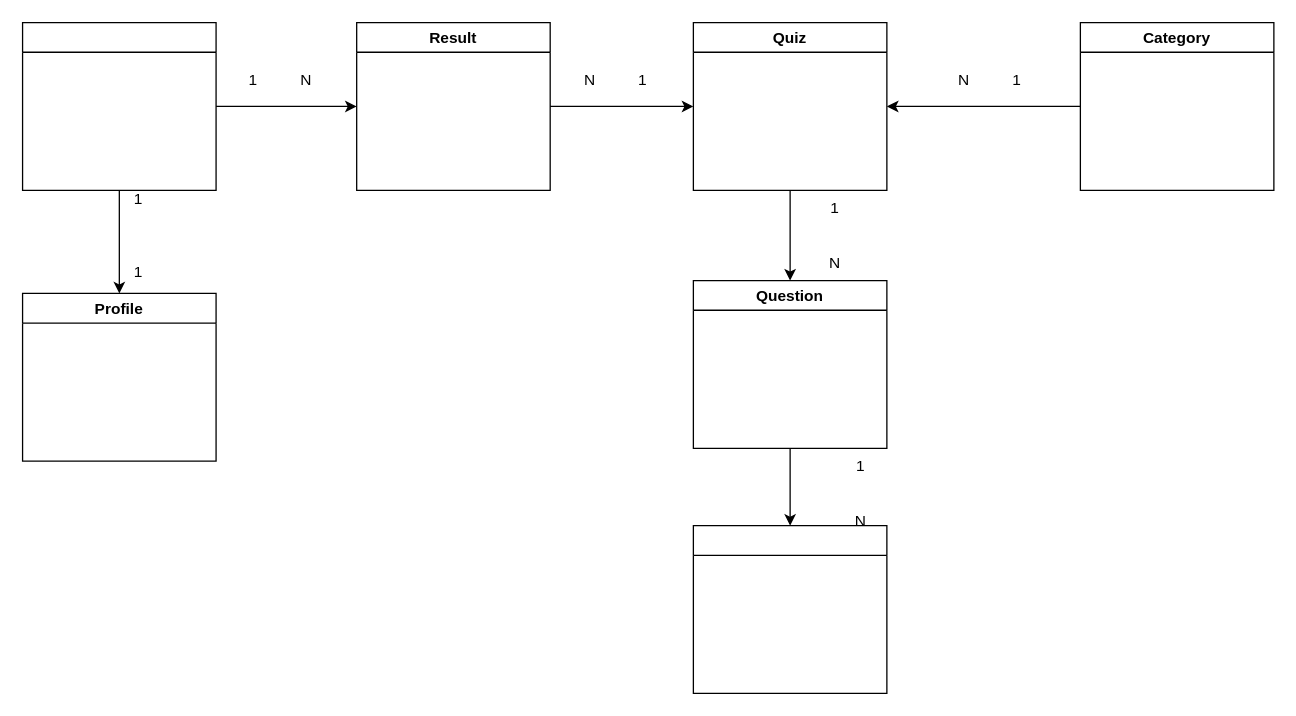
Image size: 1296x716. Some labels were removed from this diagram. Here are the shapes that lost their labels. From the top down, the centre of each, then its label:
At pixel 118 105: "User".
At pixel 789 608: "Choice".
